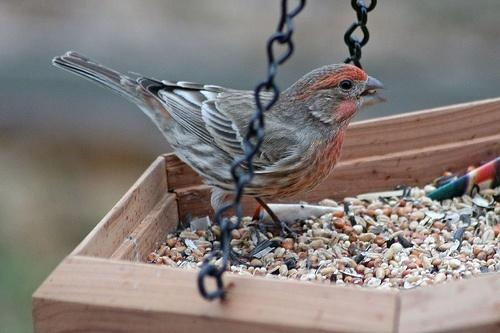bird: (47, 44, 390, 244)
